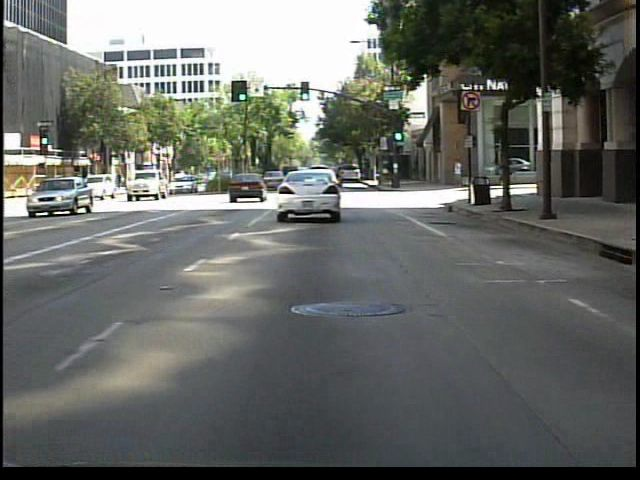person: (449, 155, 465, 195)
